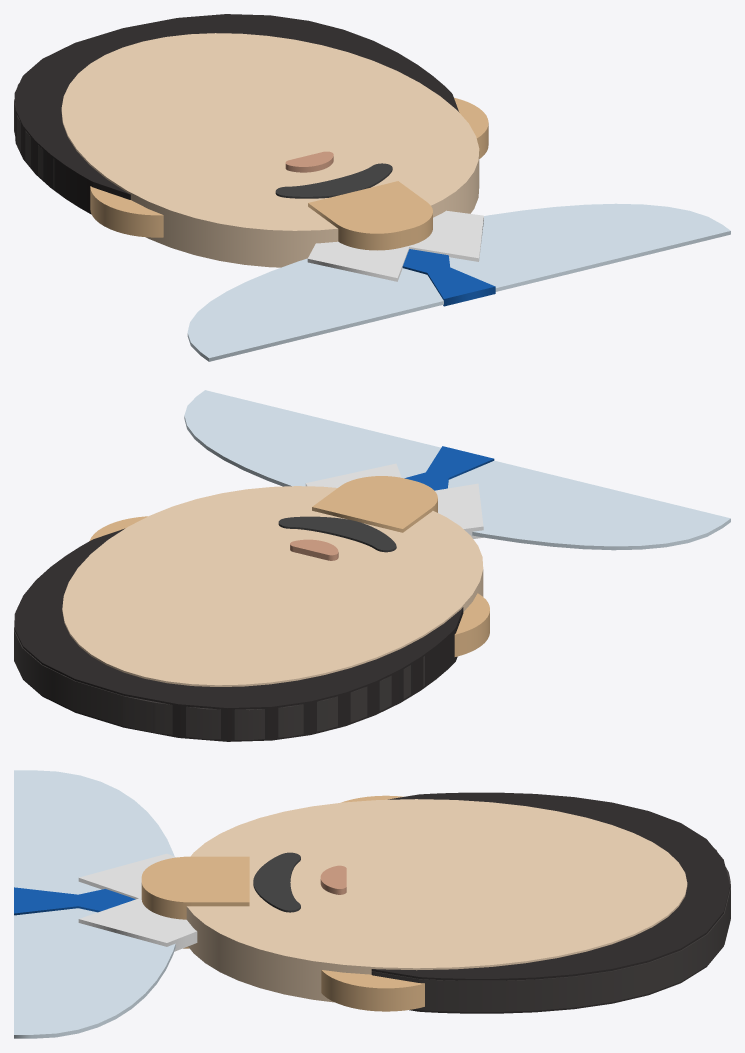
Rendered from emoji_u1f468_1f3fb_200d_1f4bc.glb.
The picture shows the model from 3 angles, top to bottom: view 1: azimuth 30°, elevation 25°; view 2: azimuth 150°, elevation 25°; view 3: azimuth 270°, elevation 25°; orthographic projection. The views are drawn at different scales.
Visible parts, largest first — view 1: emoji_u1f468_1f3fb_200d_1f4bc; view 2: emoji_u1f468_1f3fb_200d_1f4bc; view 3: emoji_u1f468_1f3fb_200d_1f4bc.
Boxes of the visible parts, bbox=[...] form: emoji_u1f468_1f3fb_200d_1f4bc: bbox=[14, 14, 730, 361]; emoji_u1f468_1f3fb_200d_1f4bc: bbox=[14, 390, 730, 741]; emoji_u1f468_1f3fb_200d_1f4bc: bbox=[14, 770, 730, 1038].
Size of the model in its own units: 0.0294 by 0.0026 by 0.0336.
